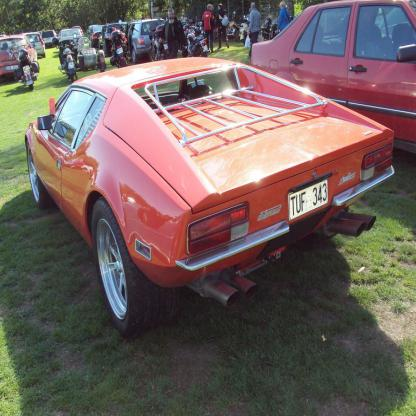Car: (0, 0, 416, 331)
